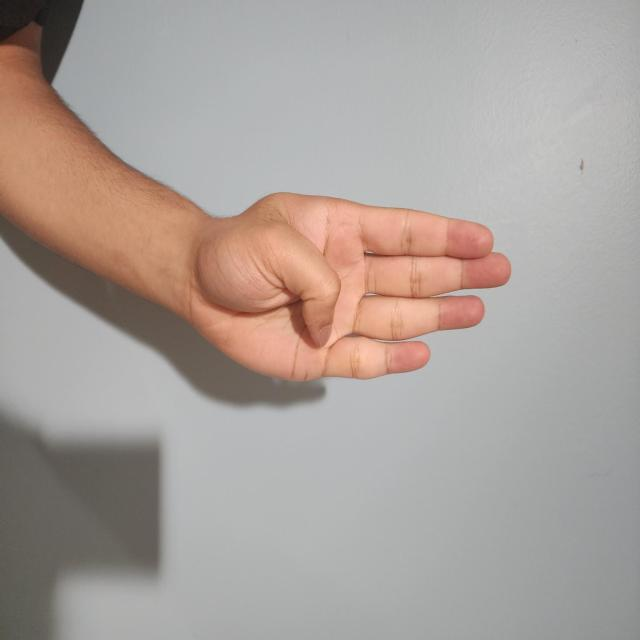B: (300, 165, 450, 611)
